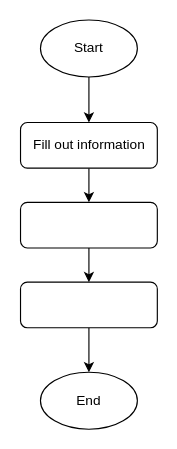
This 177x449 diagram has some shape labels left out. The shapes that lost their labels are listed below. From the top down, each one's centre as x and y in pixels, then its label:
(x=88, y=224): Reserve cottage
(x=88, y=304): Payment method
